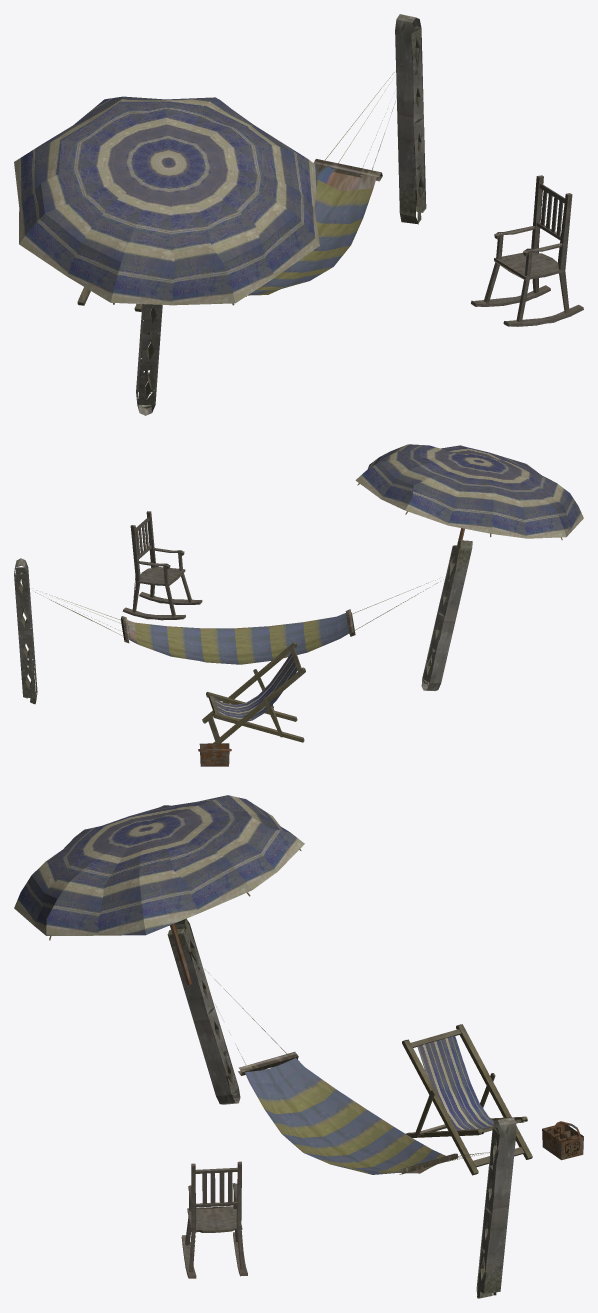
File: lobby.glb
3 renders of one model, top to bottom at view 1: azimuth 30°, elevation 25°; view 2: azimuth 150°, elevation 25°; view 3: azimuth 270°, elevation 25°, orthographic. The views are drawn at different scales.
Visible parts, largest first — view 1: pCylinder46_aiStandardSurface13_0, pCylinder46_T_Garage_0, polySurface4510_T_House_0, polySurface991_T_Van2_0; view 2: pCylinder46_aiStandardSurface13_0, polySurface991_T_Van2_0, polySurface4510_T_House_0, pCylinder46_T_Garage_0; view 3: pCylinder46_aiStandardSurface13_0, polySurface991_T_Van2_0, pCylinder46_T_Garage_0, polySurface4510_T_House_0.
Part boxes in pixels (x1,y1,x2,y2): pCylinder46_aiStandardSurface13_0: [14, 96, 319, 305]; pCylinder46_T_Garage_0: [113, 14, 426, 415]; polySurface4510_T_House_0: [77, 159, 583, 326]; polySurface991_T_Van2_0: [248, 60, 403, 295]; pCylinder46_aiStandardSurface13_0: [214, 444, 583, 721]; polySurface991_T_Van2_0: [35, 578, 445, 664]; polySurface4510_T_House_0: [120, 511, 355, 743]; pCylinder46_T_Garage_0: [14, 483, 562, 766]; pCylinder46_aiStandardSurface13_0: [14, 795, 494, 1130]; polySurface991_T_Van2_0: [196, 962, 489, 1174]; pCylinder46_T_Garage_0: [49, 849, 583, 1298]; polySurface4510_T_House_0: [181, 1024, 532, 1278].
Size of the model in its own units: 0.246 by 0.1284 by 0.2264.
5 materials, 4 textured.
